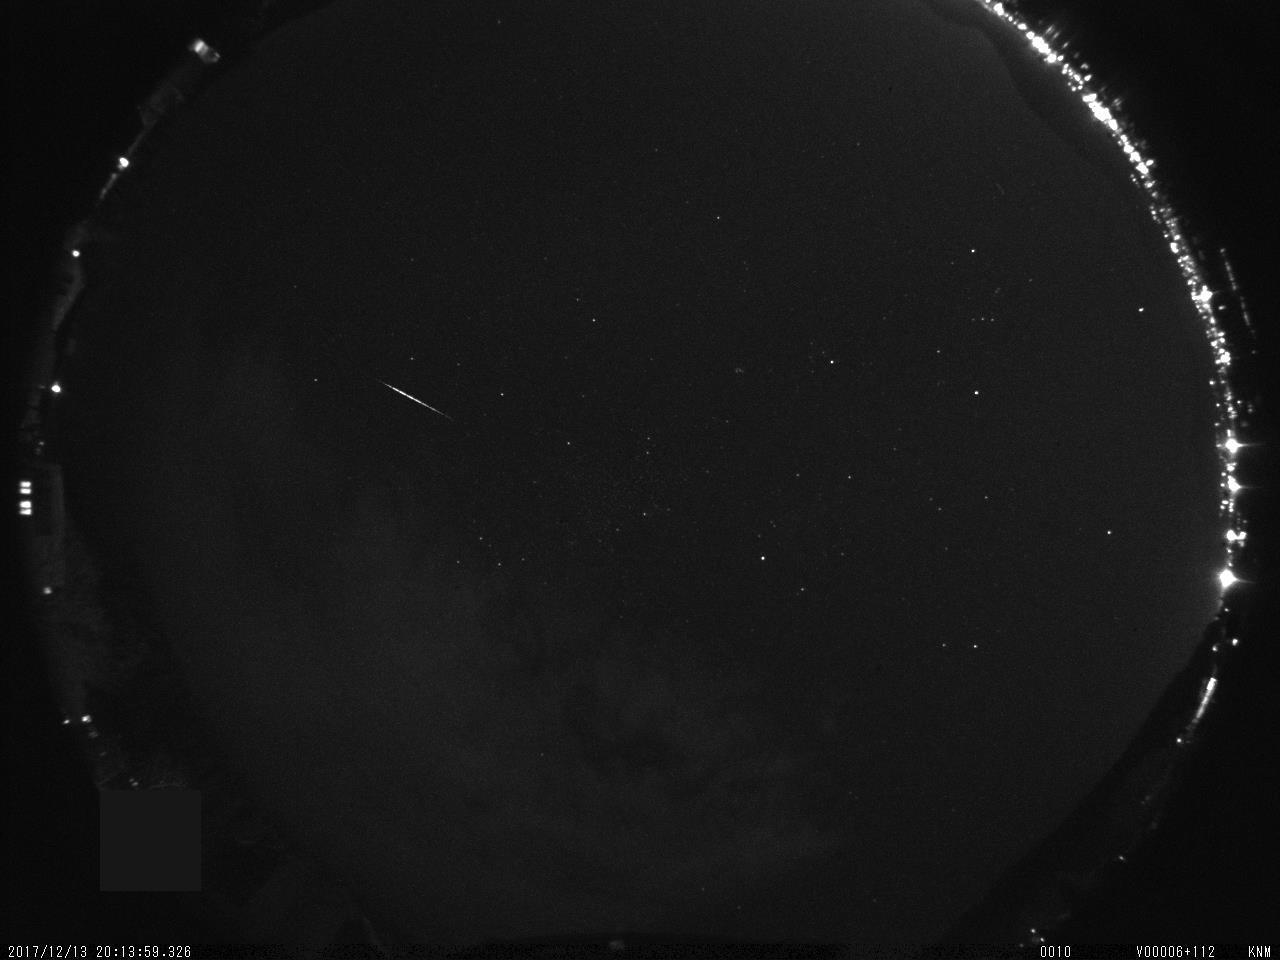Meteor: (370, 374, 456, 426)
